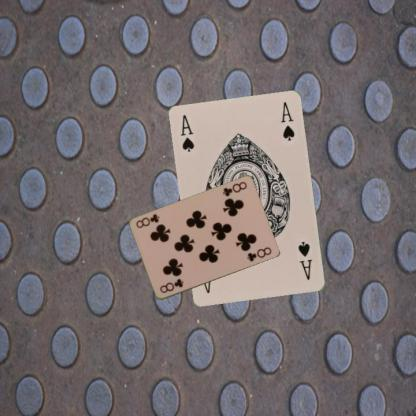8c: (157, 276, 185, 295), (220, 179, 248, 198)
As: (295, 240, 314, 282), (178, 112, 196, 154)
